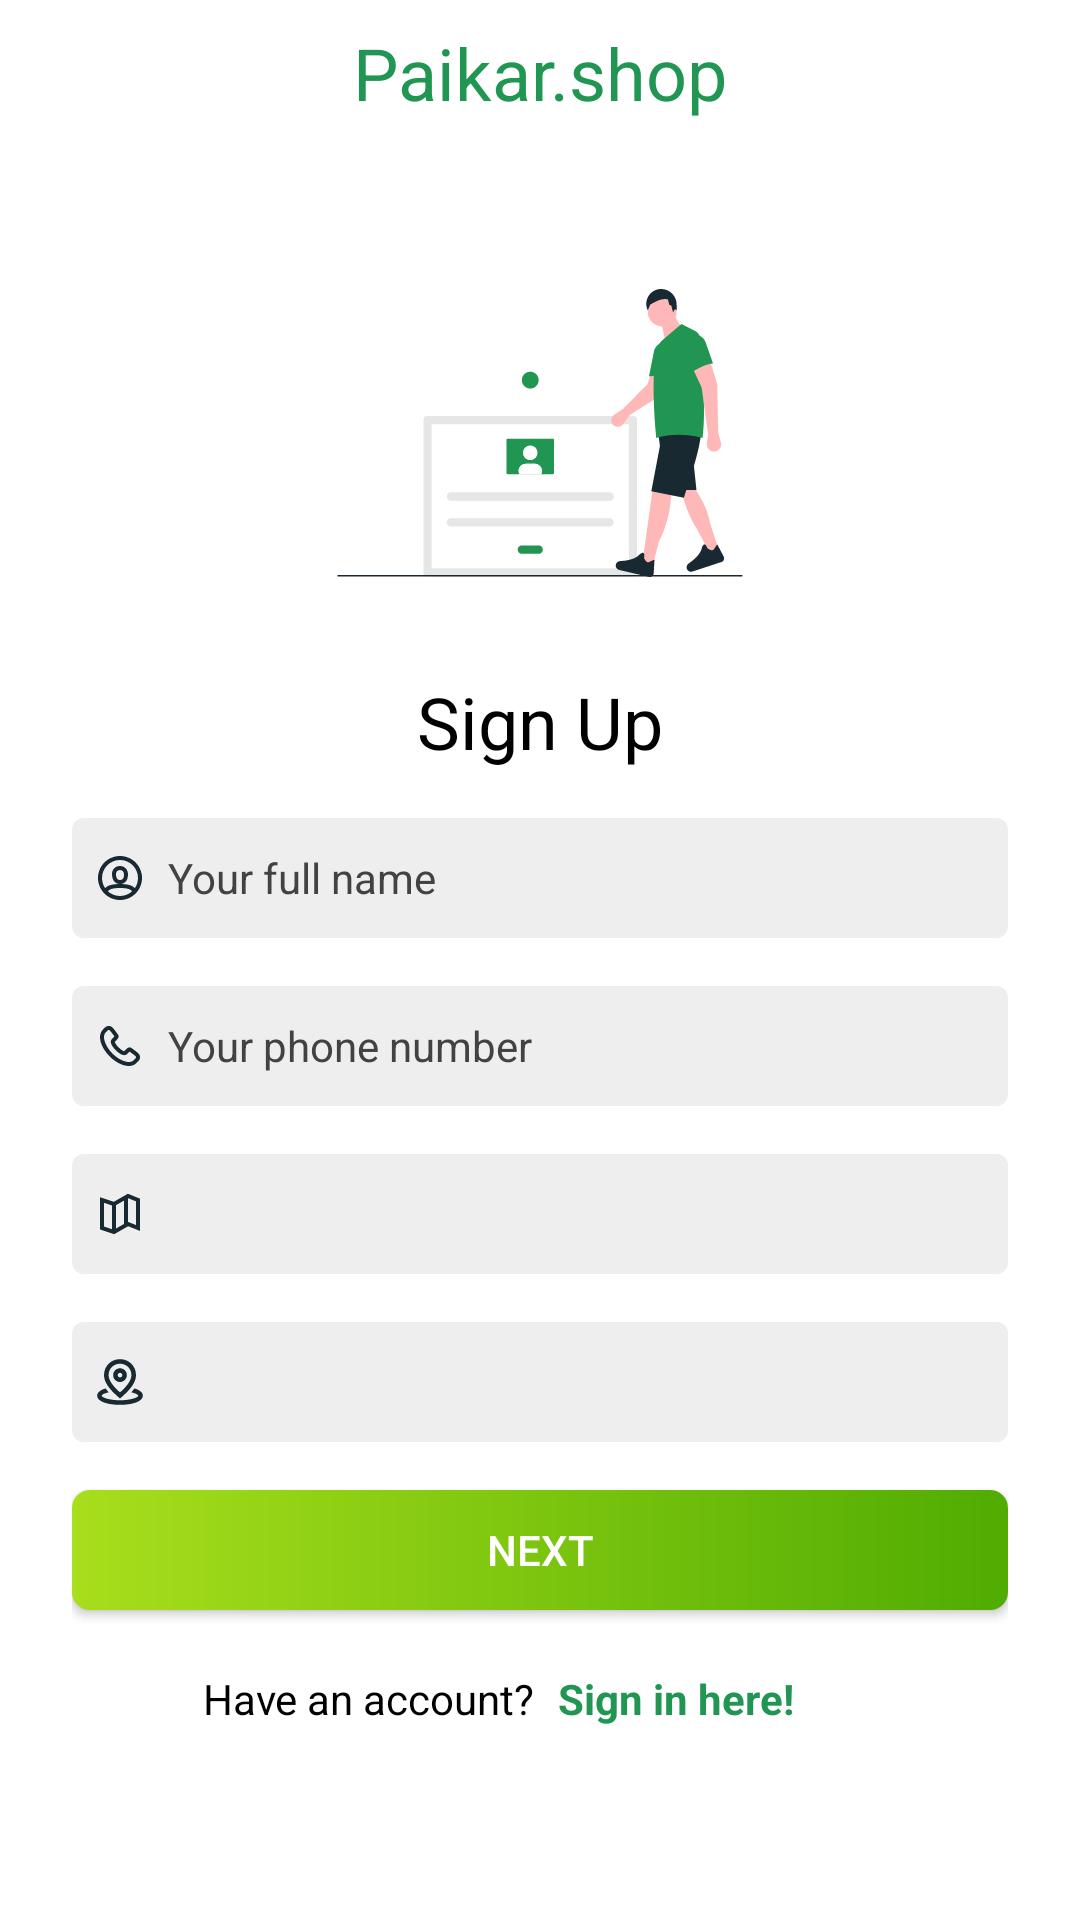

Named icons in this screenshot (1080x1920) and their bounding boxes, (x1, y1, x2, y2):
location: (97, 1359, 143, 1405)
map: (100, 1194, 140, 1234)
